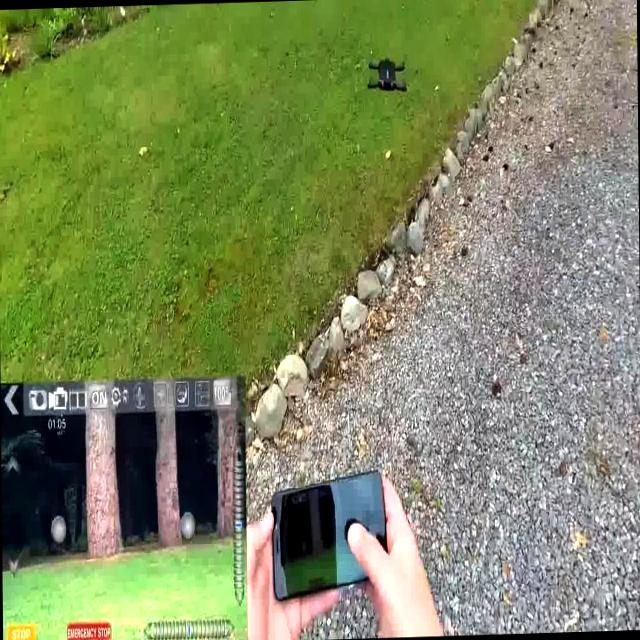drone: (362, 50, 411, 104)
